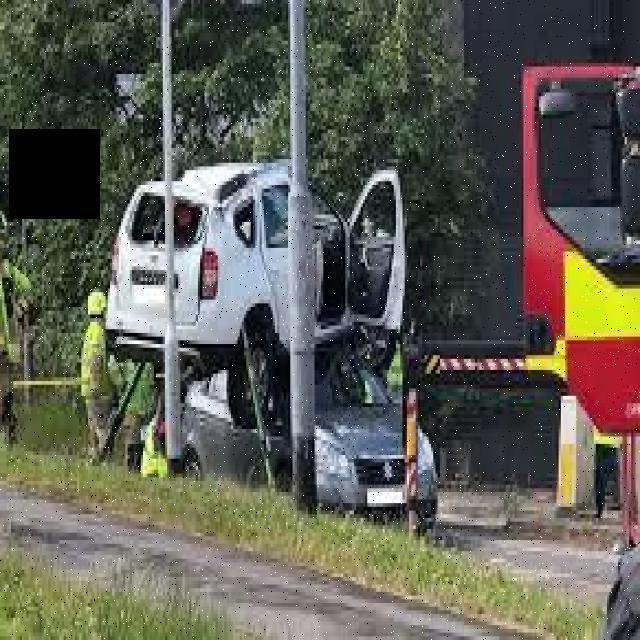accident: (99, 129, 442, 518)
